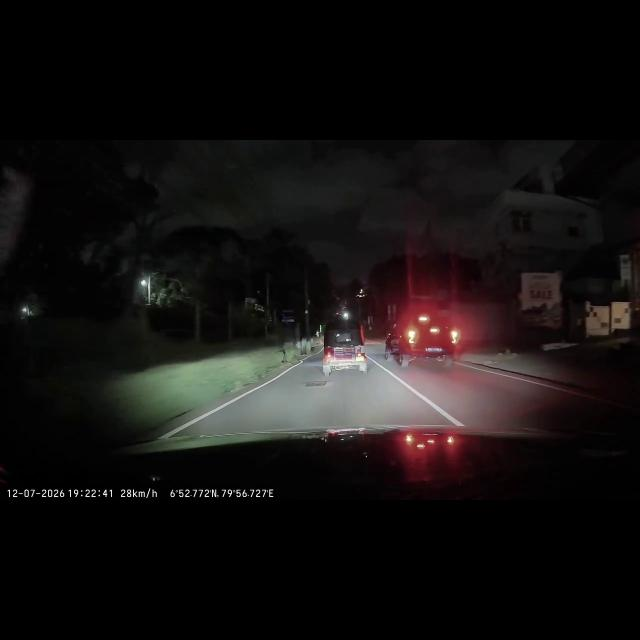car: (400, 314, 450, 358)
solid_line: (375, 370, 473, 426)
three_wheeler: (324, 322, 362, 363)
